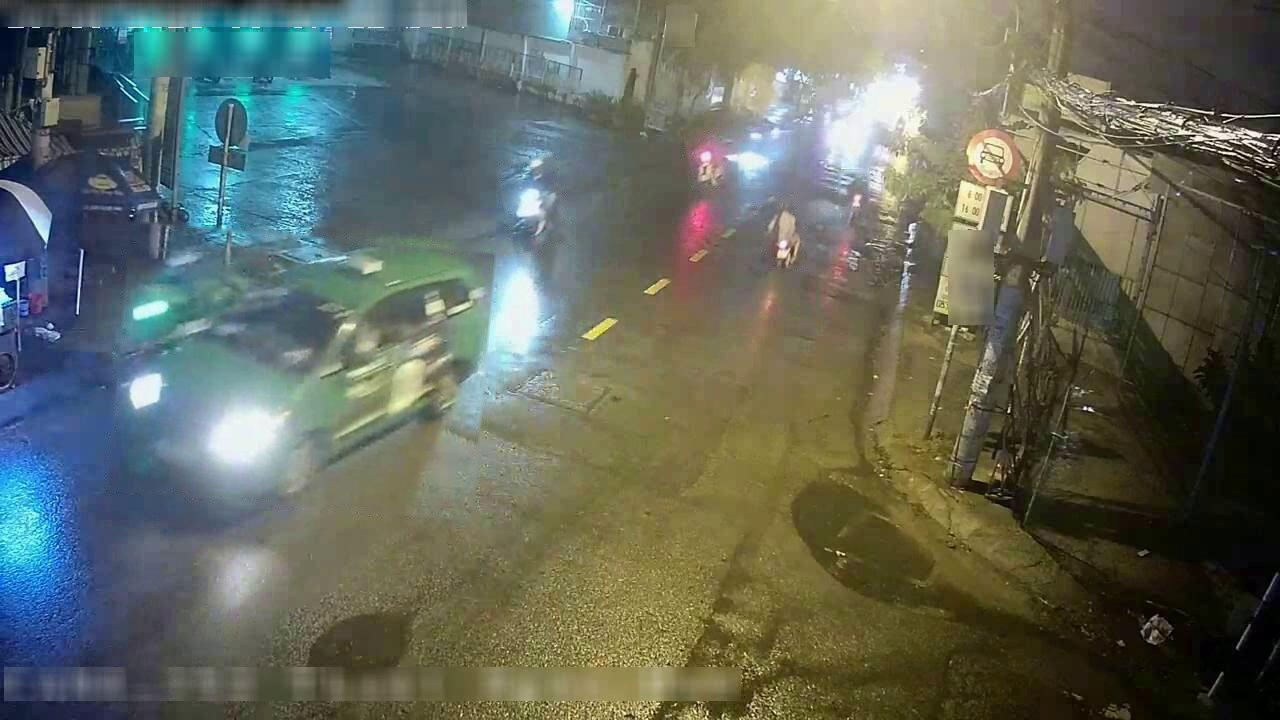Car: (116, 241, 490, 502), (504, 159, 558, 241)
Motorcyclist: (116, 252, 207, 367), (765, 201, 802, 268), (690, 138, 723, 187), (734, 137, 769, 183), (842, 171, 869, 220)
Sign: (215, 98, 247, 147)
